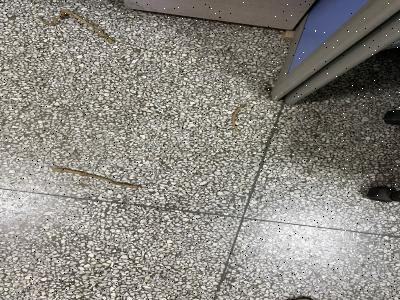Root: (39, 9, 120, 44), (52, 168, 140, 189), (231, 105, 246, 135)
